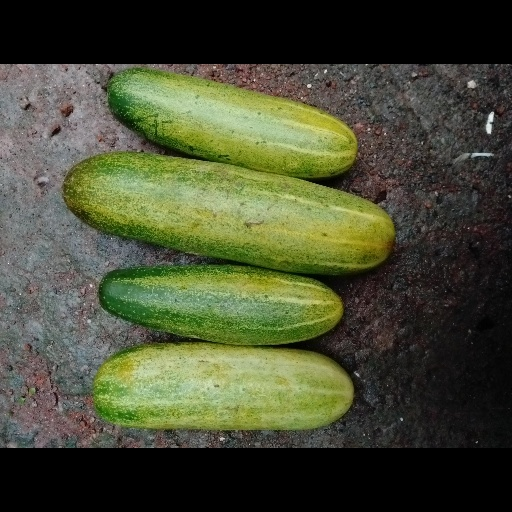concombre: (61, 151, 397, 280), (107, 68, 359, 181), (91, 341, 355, 431), (99, 264, 346, 346)
